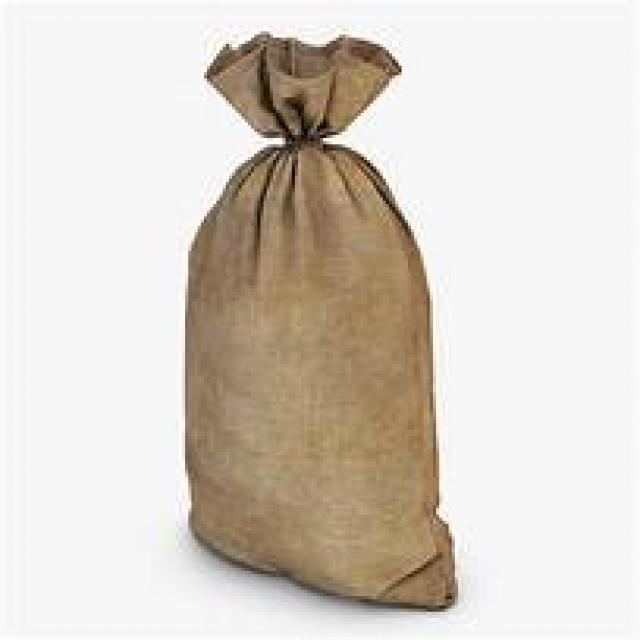gunny_bag: (180, 27, 469, 624)
